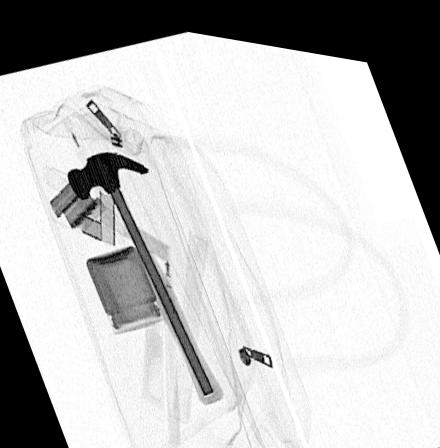Hammer: (65, 149, 221, 399)
